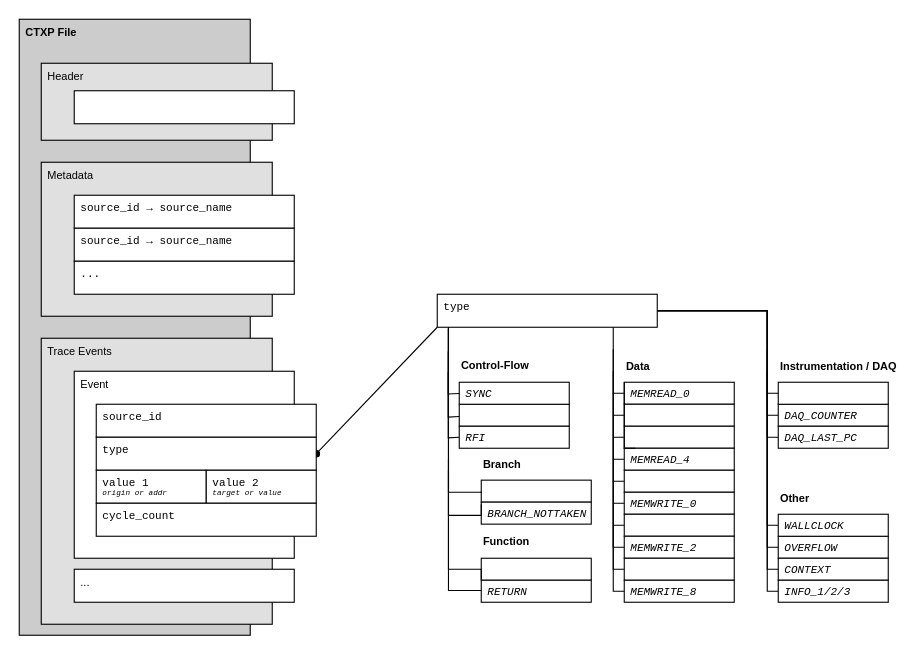
The diagram is 919 pixels wide and 655 high, and some of its shapes have lost their labels. The centre of each missing label's shape, as x and y in pixels:
"BRANCH_TAKEN" belongs at (535,490).
"CALL" belongs at (535,568).
"DAQ_DATA" belongs at (832,392).
"INTERRUPT" belongs at (513,414).
"MEMREAD_1" belongs at (678,414).
"MEMREAD_2" belongs at (678,436).
"MEMREAD_8" belongs at (678,480).
"MEMWRITE_1" belongs at (678,524).
"MEMWRITE_4" belongs at (678,568).
"version" belongs at (183,107).
